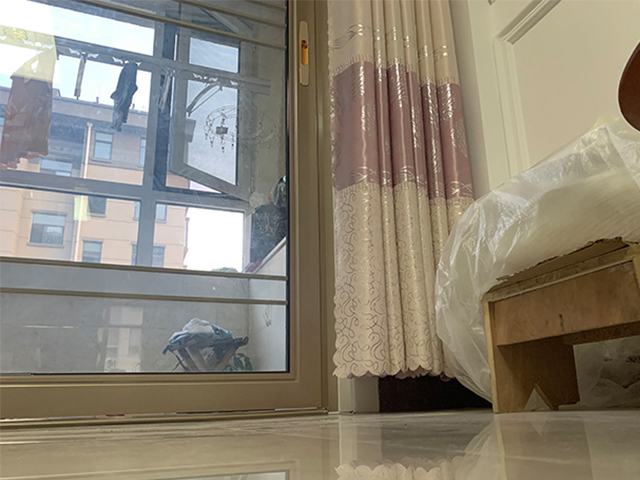curtain: (327, 1, 475, 379)
